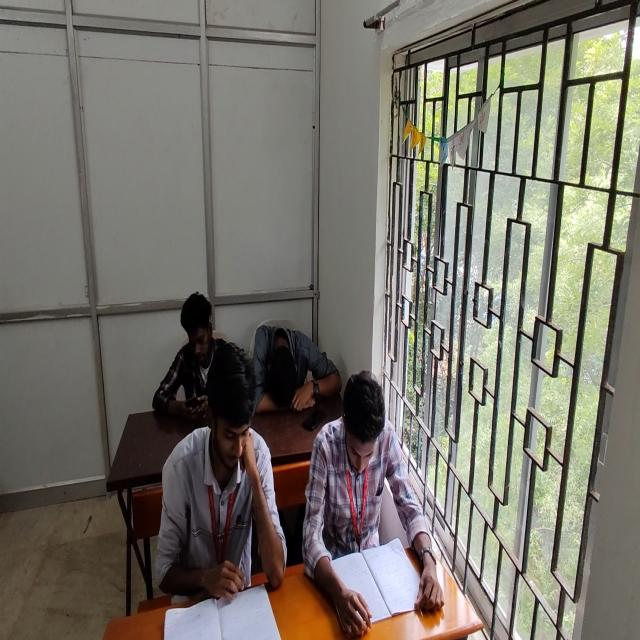reading: (155, 338, 288, 612), (306, 370, 425, 633)
sleeping: (252, 325, 339, 417)
using_mobile: (152, 291, 229, 423)
